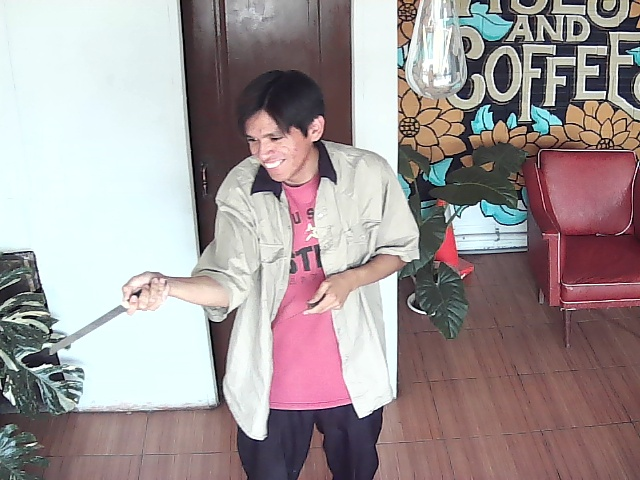cuchillo: (48, 276, 158, 358)
